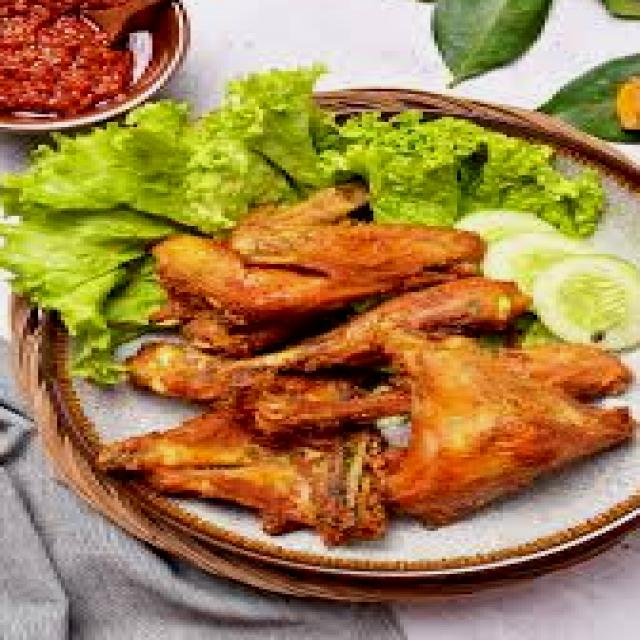ayam_goreng: (122, 178, 632, 531)
